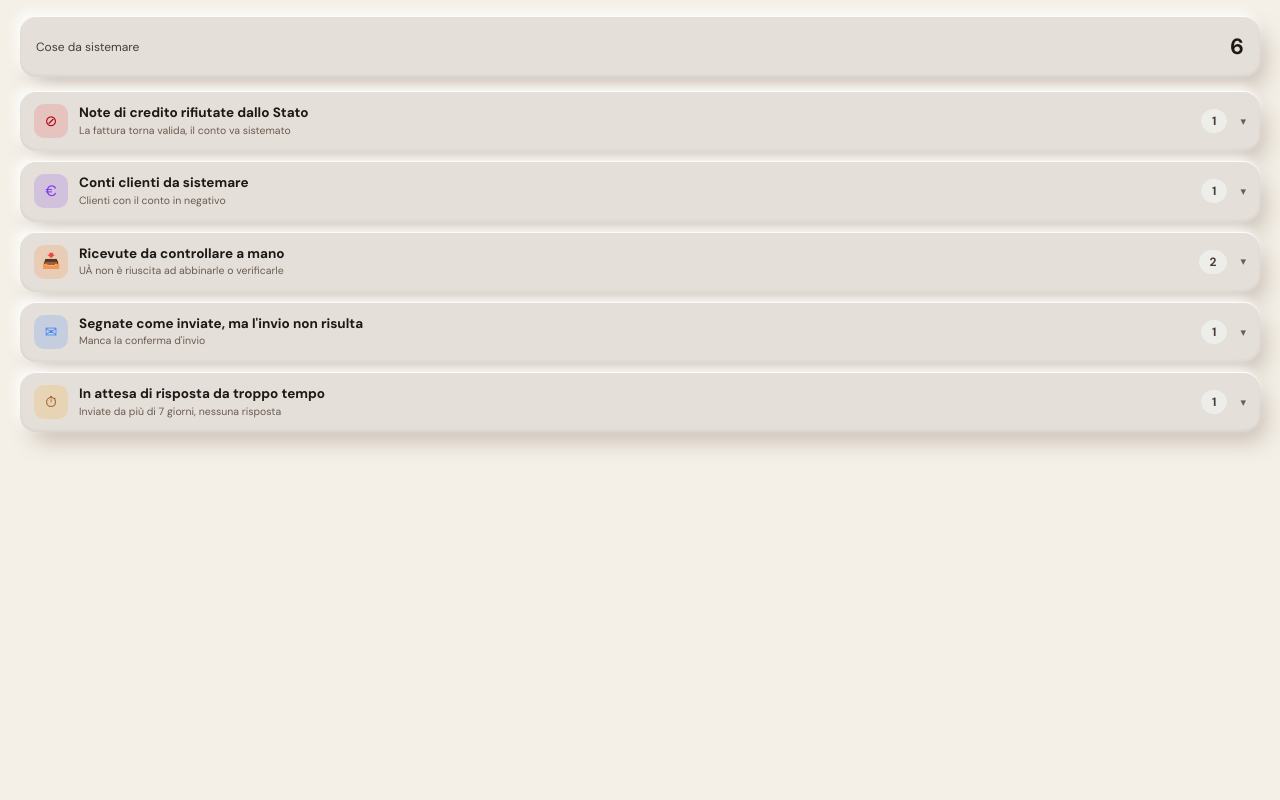
Scenario: RiconciliazioniClient — 5 gruppi + conteggi › click sull'header apre il gruppo e mostra le righe
Click the button "Conti clienti da sistemare": (51, 191) [20,161,1260,222]
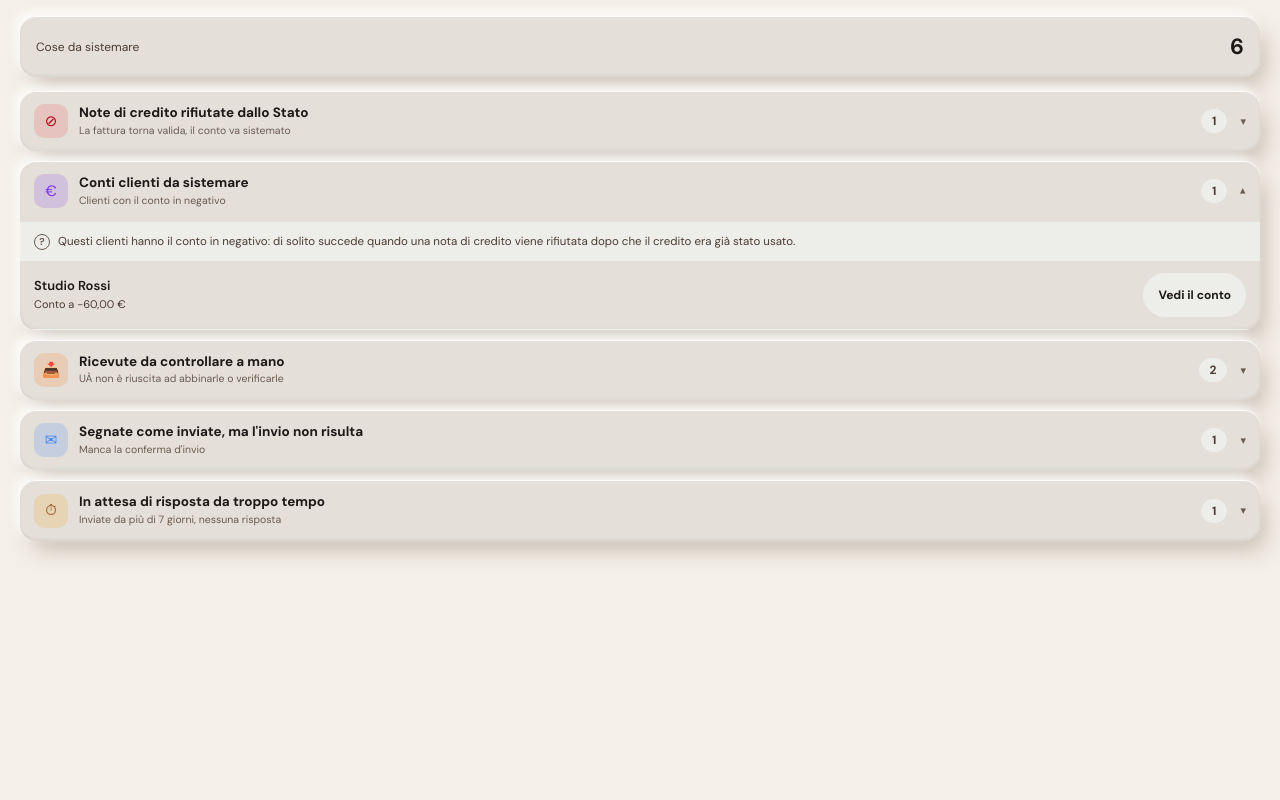
Result: the text "Studio Rossi" is shown at [34,277,110,294]
Result: the text "Conto a -60,00 €" is shown at [34,297,126,311]
